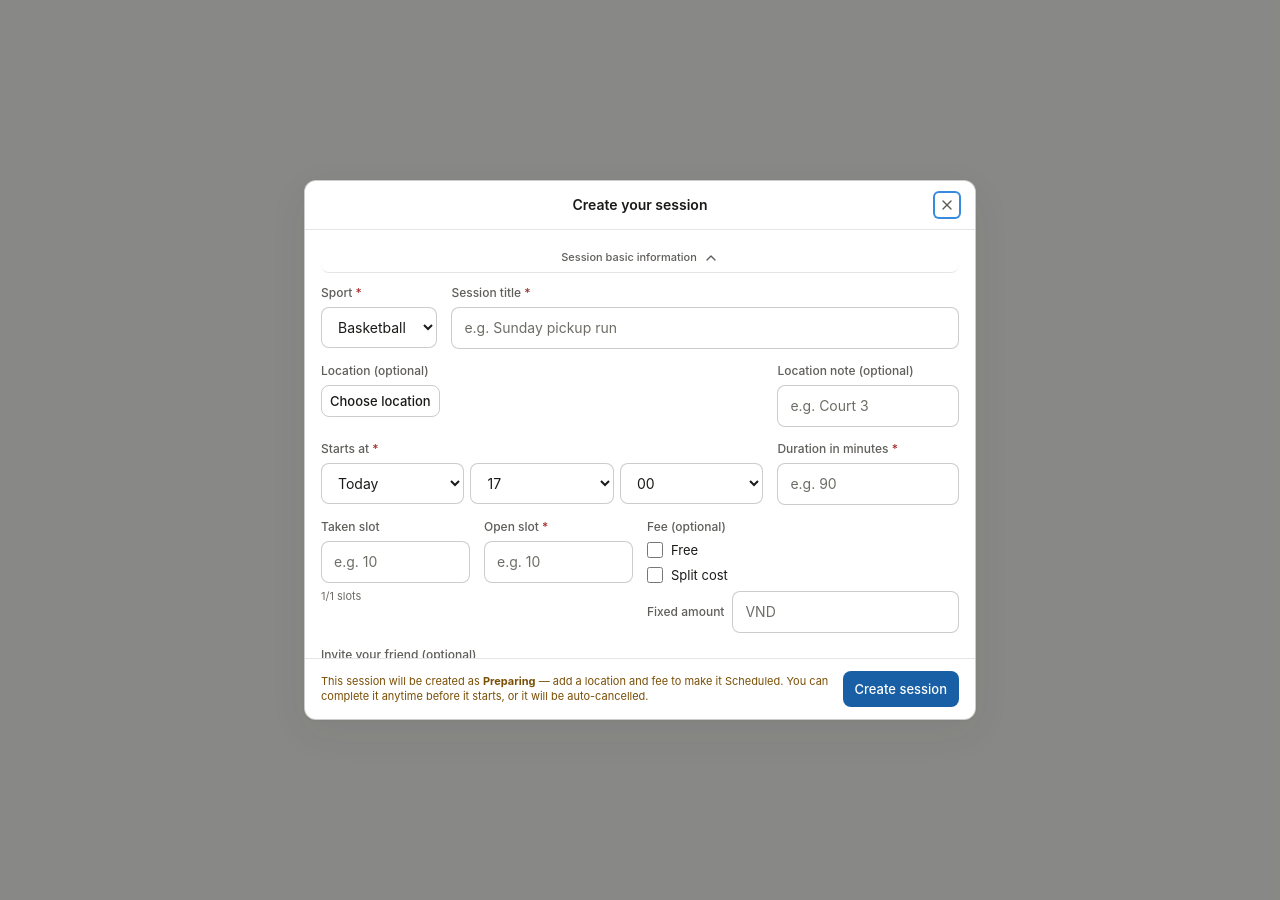
it: CreateSessionModal › a field error clears on its own once that field is filled in, without needing to resubmit
This screenshot has width=1280, height=900.
Click the button "Create session": [901, 689] box x1=842 y1=671 x2=959 y2=707
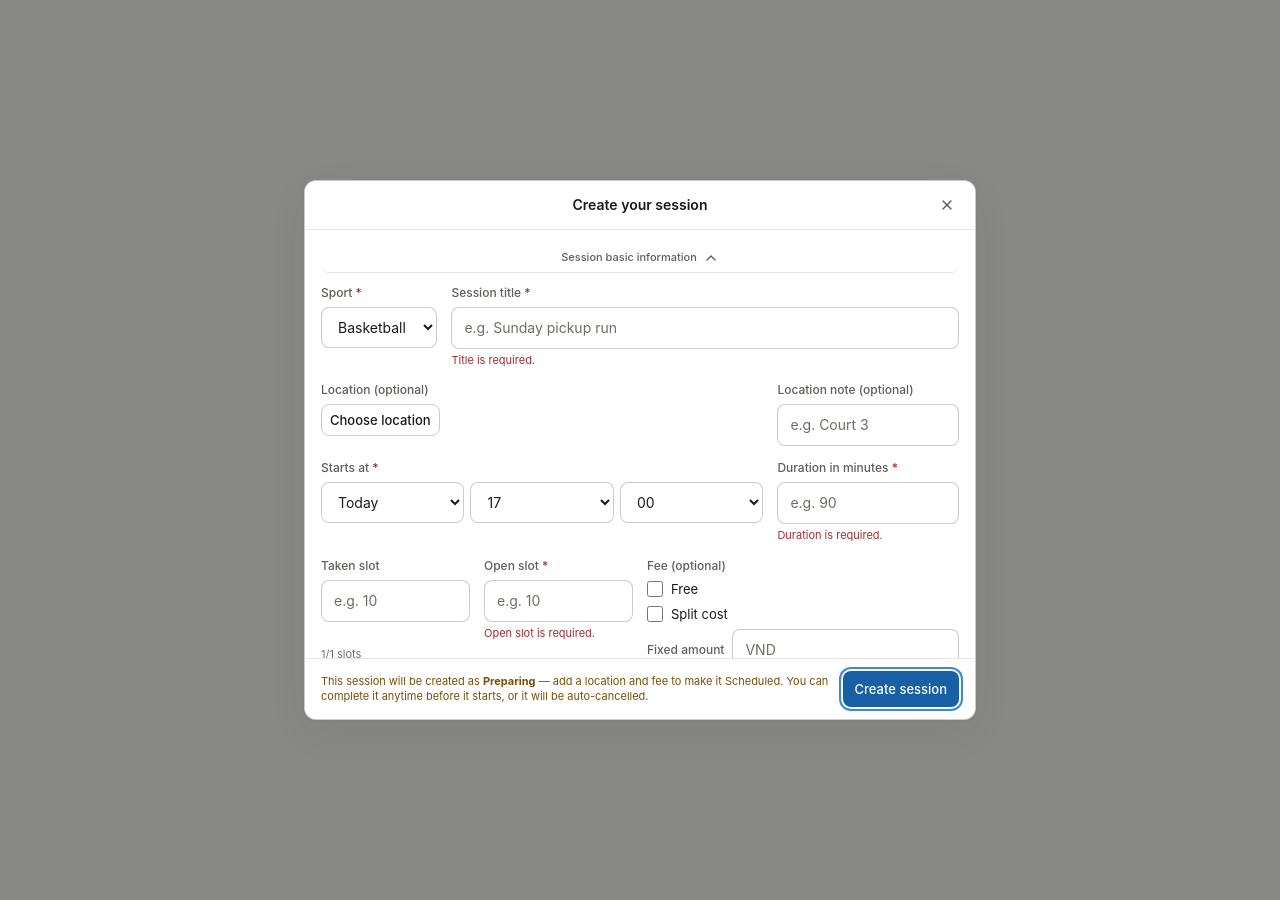
Result: the text "Title is required." is shown at x1=451 y1=353 x2=535 y2=367
In the field labelled "Session title *": [705, 328] box x1=451 y1=307 x2=959 y2=349, type "Sunday run"
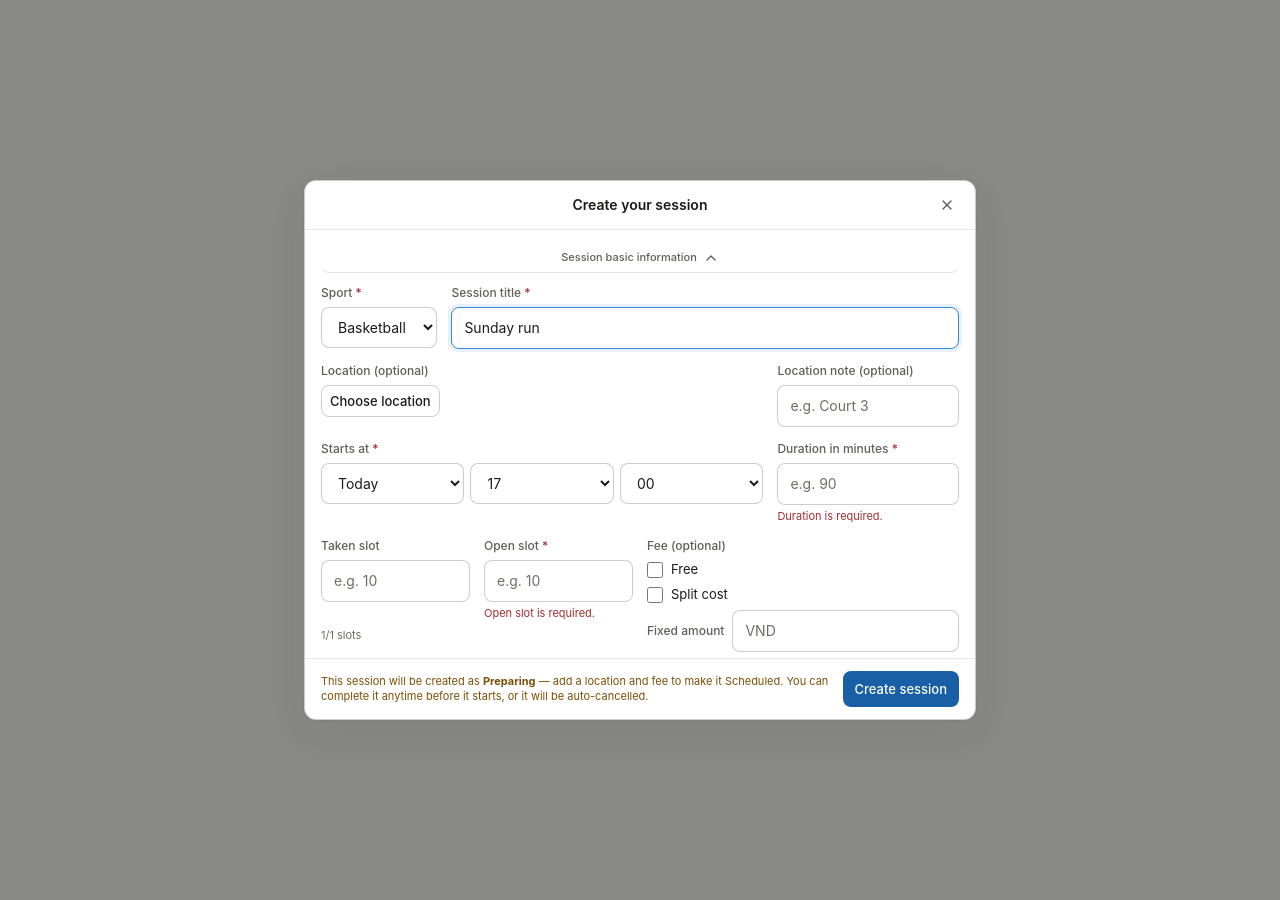
Result: the text "Title is required." is gone
